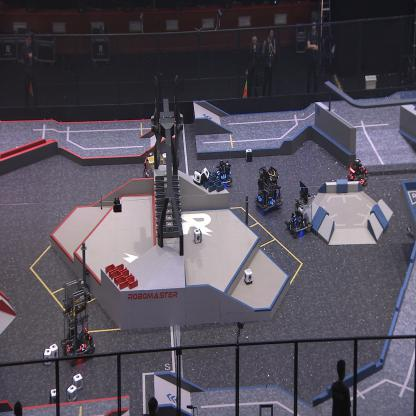car: (61, 278, 96, 362), (285, 181, 313, 236), (254, 165, 282, 213), (144, 152, 166, 189), (347, 158, 368, 190), (212, 159, 232, 189), (142, 150, 157, 177)
